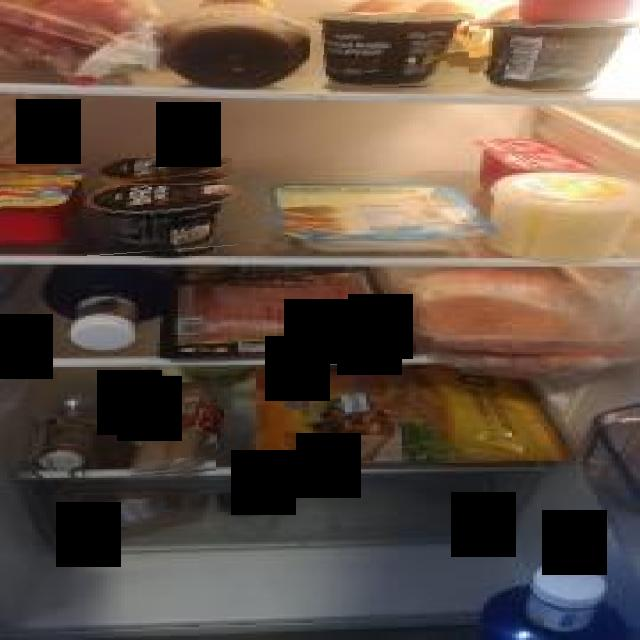sausage: (124, 382, 217, 478)
yogurt: (310, 12, 476, 90), (469, 19, 640, 94), (84, 185, 244, 257), (0, 180, 78, 246), (98, 158, 233, 185)
